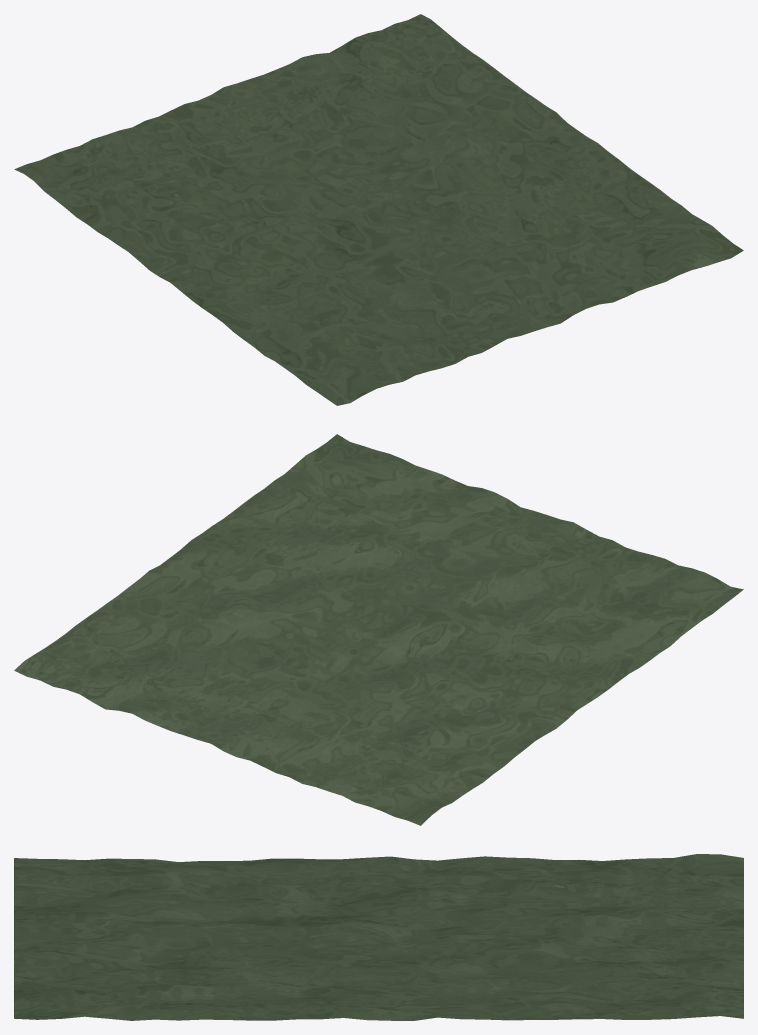
The model's file is ground.glb.
3 renders of one model, top to bottom at view 1: azimuth 30°, elevation 25°; view 2: azimuth 150°, elevation 25°; view 3: azimuth 270°, elevation 25°, orthographic. The views are drawn at different scales.
Parts seen in each view (by area): view 1: GroundPlane; view 2: GroundPlane; view 3: GroundPlane.
Part boxes in pixels (x1,y1,x2,y2): GroundPlane: (14, 14, 743, 405); GroundPlane: (14, 434, 743, 825); GroundPlane: (14, 854, 743, 1020).
Bounding box in the file's own units: 41.88 × 6.08 × 57.52.
1 material, 1 textured.
